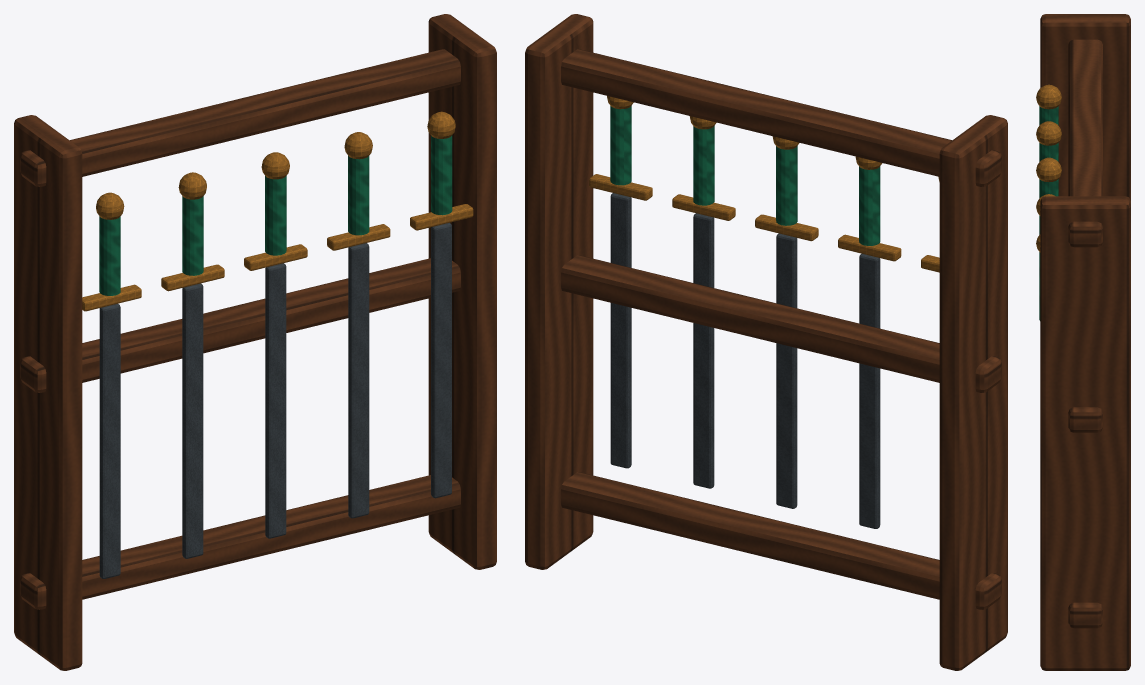
The model's file is weapon_rack.glb.
3 renders of one model, left to right at view 1: azimuth 30°, elevation 25°; view 2: azimuth 150°, elevation 25°; view 3: azimuth 270°, elevation 25°, orthographic. The views are drawn at different scales.
Visible parts, largest first — view 1: weapon_rack_Walnut, weapon_rack_Iron, weapon_rack_Jade, weapon_rack_Brass; view 2: weapon_rack_Walnut, weapon_rack_Iron, weapon_rack_Jade, weapon_rack_Brass; view 3: weapon_rack_Walnut, weapon_rack_Brass, weapon_rack_Jade.
Part boxes in pixels (x1,y1,x2,y2): weapon_rack_Walnut: (14,14,496,670); weapon_rack_Iron: (99,223,451,578); weapon_rack_Jade: (99,135,452,295); weapon_rack_Brass: (82,111,473,311); weapon_rack_Walnut: (525,14,1007,670); weapon_rack_Iron: (610,193,880,528); weapon_rack_Jade: (610,106,880,245); weapon_rack_Brass: (589,96,939,272); weapon_rack_Walnut: (1040,14,1130,670); weapon_rack_Brass: (1036,84,1061,252); weapon_rack_Jade: (1039,106,1058,320).
Bounding box in the file's own units: 2.2 × 2.4 × 0.44.
Materials: 4 (4 with a texture image).
